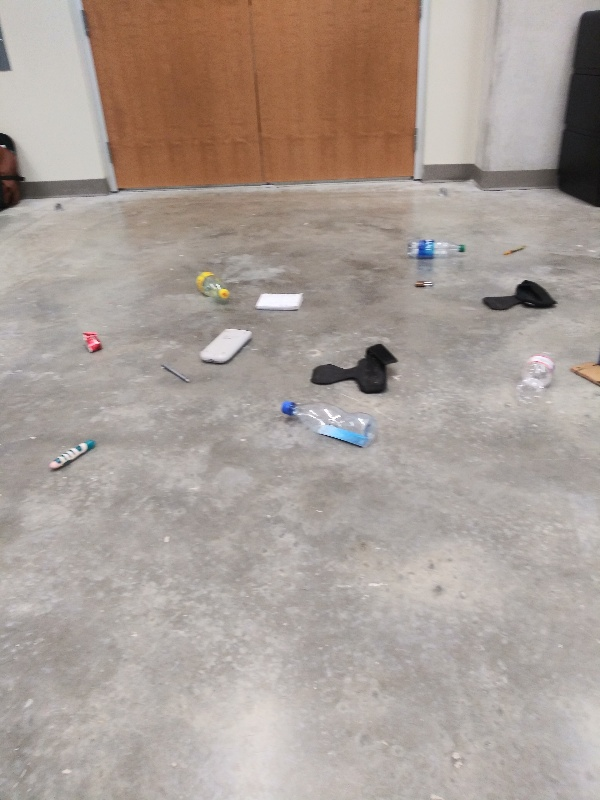bottle: (278, 396, 380, 451), (515, 345, 563, 411), (403, 237, 470, 263), (191, 264, 232, 306)
